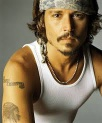male: (31, 1, 101, 59)
